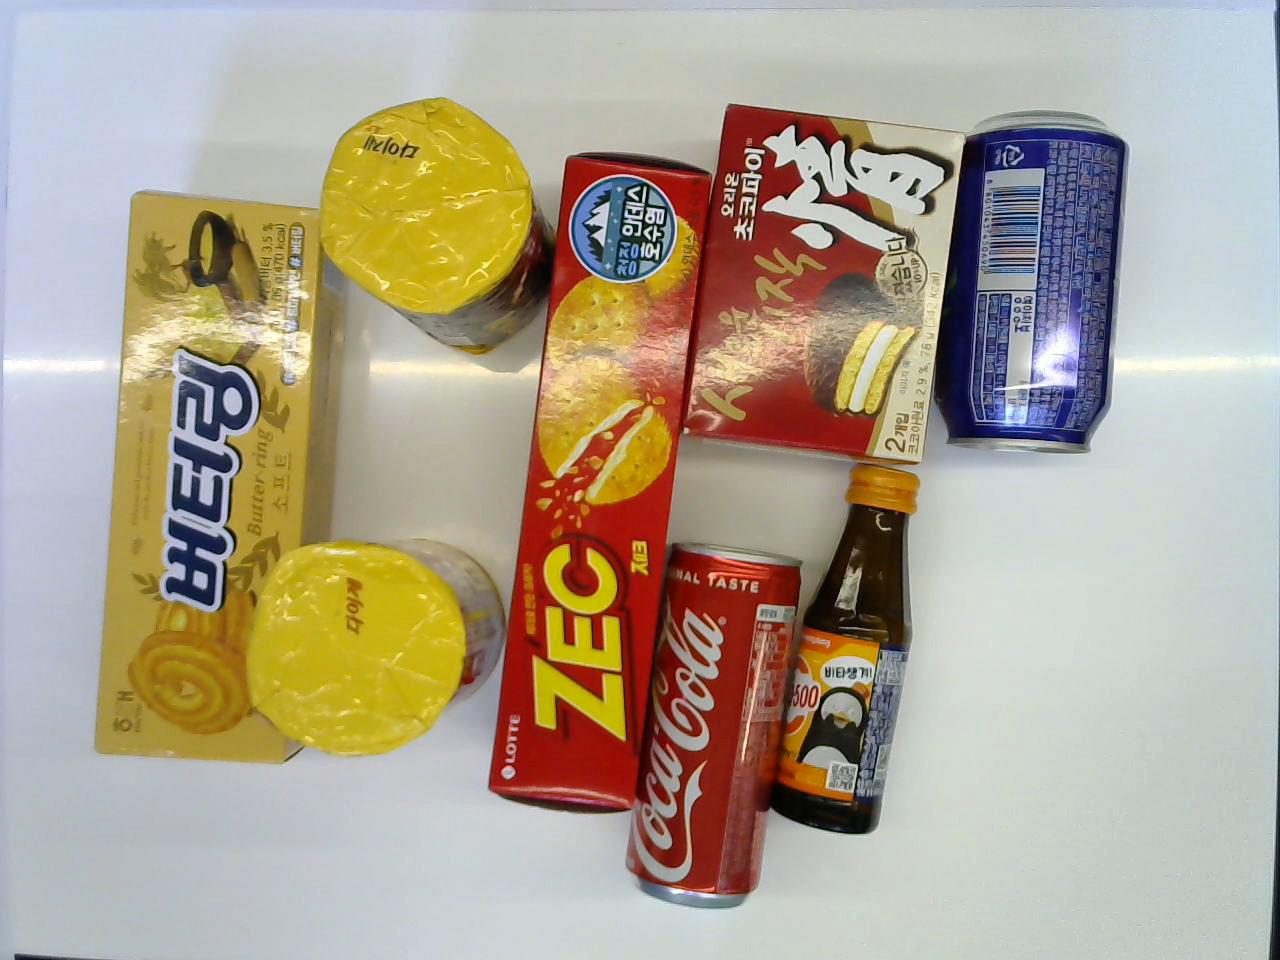buttering: (93, 188, 348, 767)
chocopie: (678, 100, 964, 471)
coke: (619, 542, 806, 910)
diget_choco: (316, 96, 560, 354)
diget_ori: (251, 535, 507, 761)
vita500: (771, 461, 921, 837)
welchs: (931, 109, 1133, 460)
zec: (484, 149, 712, 814)
